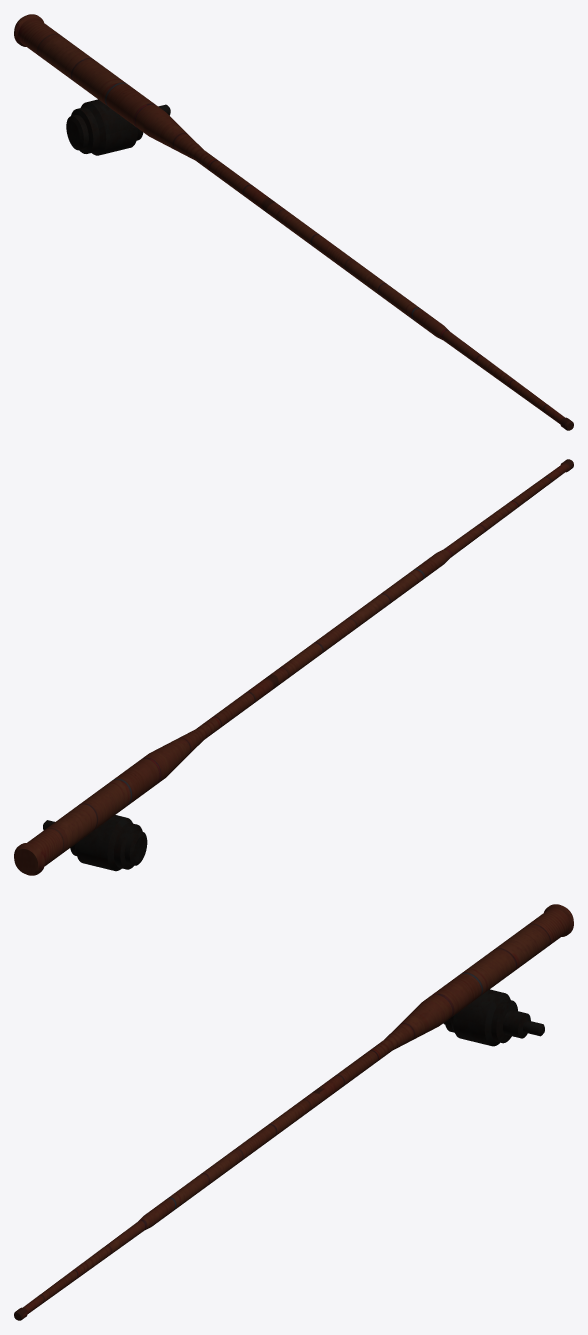
File: caña.fbx
3 views of the same model, one above another, from view 1: azimuth 30°, elevation 25°; view 2: azimuth 150°, elevation 25°; view 3: azimuth 330°, elevation 25° (orthographic).
Parts seen in each view (by area): view 1: cania.001, manillar; view 2: cania.001, manillar; view 3: cania.001, manillar.
Part boxes in pixels (left/top/right/bottom): cania.001: left=14, top=14, right=573, bottom=430; manillar: left=66, top=99, right=170, bottom=155; cania.001: left=14, top=459, right=573, bottom=875; manillar: left=43, top=815, right=147, bottom=871; cania.001: left=14, top=904, right=573, bottom=1320; manillar: left=443, top=989, right=544, bottom=1046.
Bounding box in the file's own units: 57.41 × 45.04 × 566.
2 materials, 2 textured.
